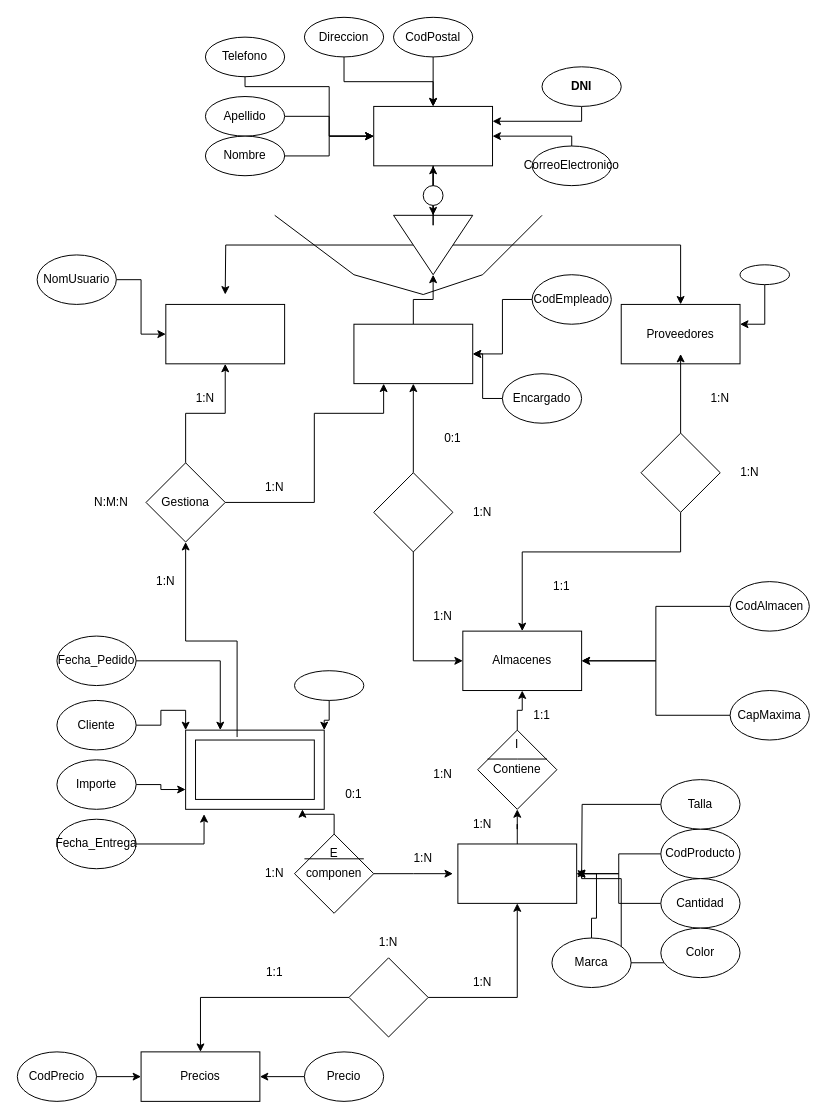
Some shapes in this 827 by 1119 pixel diagram are drawn without their labels. The centre of each missing label's shape, as x and y in pixels:
"Abastecen" goes at [680,472].
"Clientes" goes at [225,333].
"CodPedido" goes at [329,685].
"codProv" goes at [764,274].
"Controla" goes at [413,512].
"Empleados" goes at [413,353].
"Pedidos" goes at [254,769].
"Personas" goes at [433,135].
"Productos" goes at [517,873].
"Tiene" goes at [388,997].
